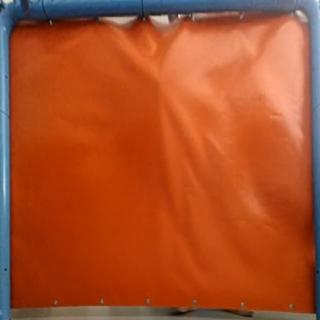Hit-hRxx: (152, 74, 168, 88)
